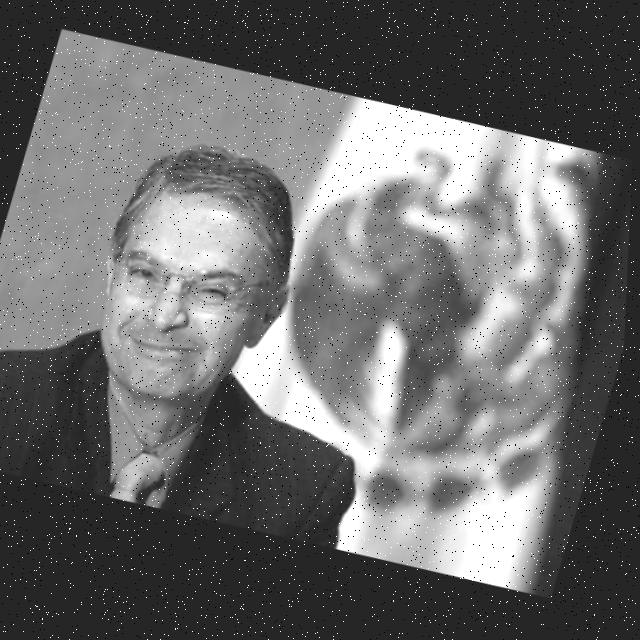face: (64, 146, 309, 424)
